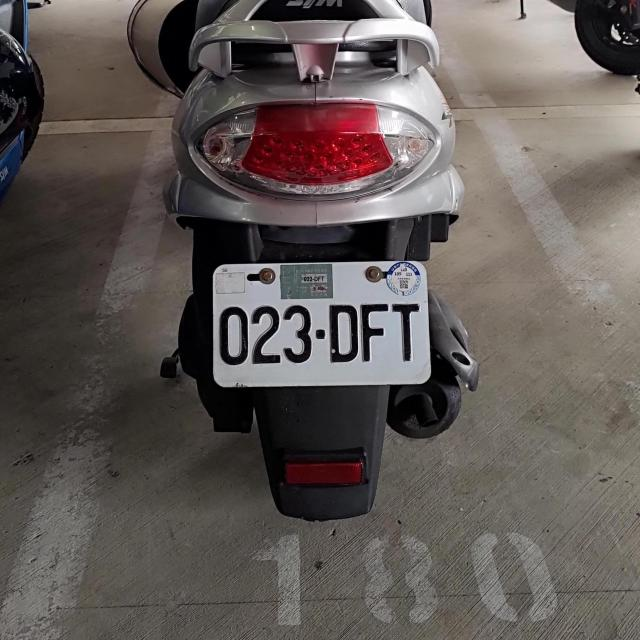W: (212, 260, 428, 386)
